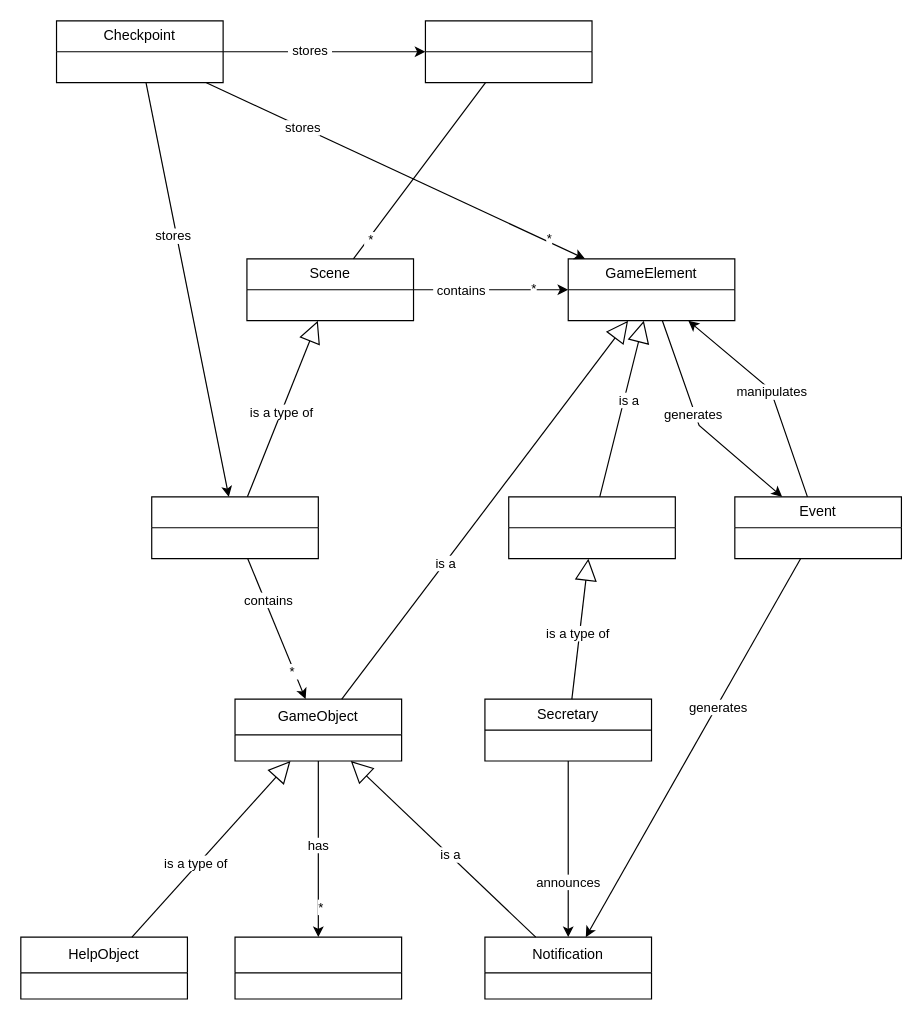
Image size: 922x1020. Some labels were removed from this diagram. Each missing label, with the box of its shape:
Character: (508, 496, 675, 559)
Game: (424, 20, 592, 83)
InteractionType: (234, 936, 402, 999)
Inventory: (151, 496, 318, 559)
